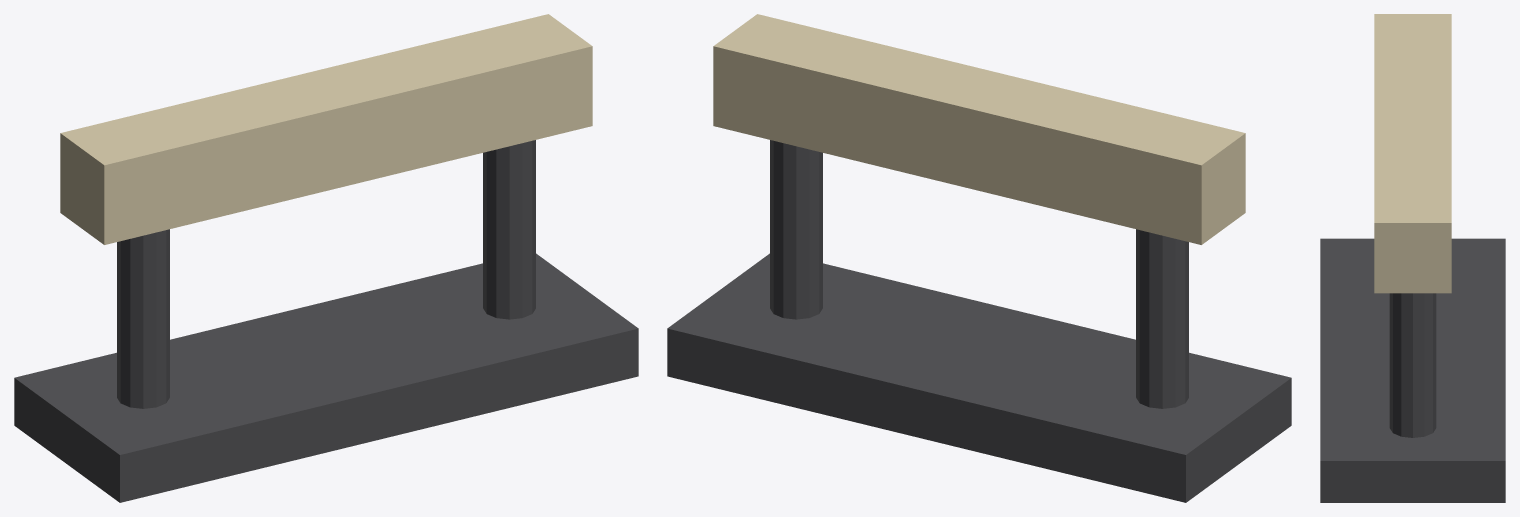
Rendered from ilu_luminaria_bancada.glb.
3 renders of one model, left to right at view 1: azimuth 30°, elevation 25°; view 2: azimuth 150°, elevation 25°; view 3: azimuth 270°, elevation 25°, orthographic. The views are drawn at different scales.
Parts seen in each view (by area): view 1: ILU_Luminaria_Bancada_v01; view 2: ILU_Luminaria_Bancada_v01; view 3: ILU_Luminaria_Bancada_v01.
Boxes of the visible parts, box(x1,y1,x2,y2) form: ILU_Luminaria_Bancada_v01: box(14, 14, 638, 502); ILU_Luminaria_Bancada_v01: box(667, 14, 1291, 502); ILU_Luminaria_Bancada_v01: box(1320, 14, 1505, 502).
Bounding box in the file's own units: 0.34 × 0.195 × 0.12.
